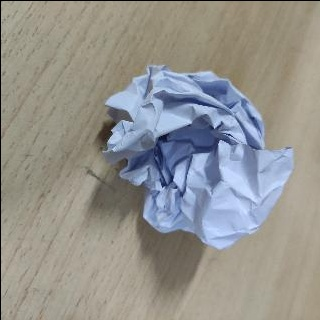8/可回收垃圾/纸: (100, 63, 296, 249)
